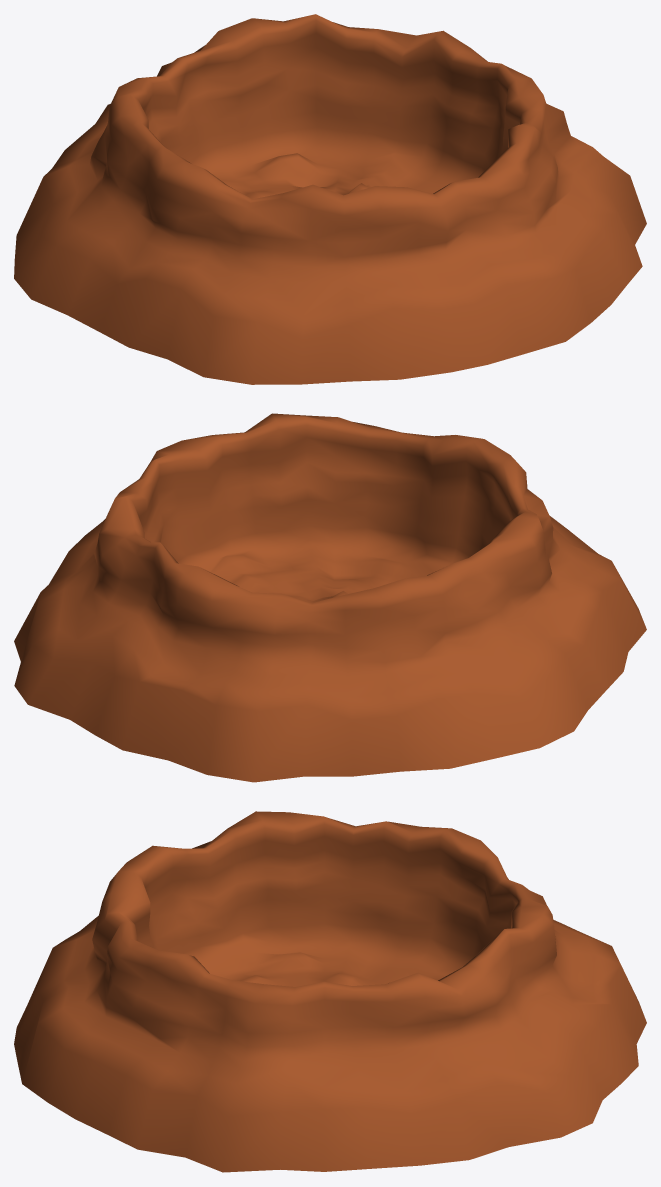
The model's file is Crater_002.fbx.
The picture shows the model from 3 angles, top to bottom: view 1: azimuth 30°, elevation 25°; view 2: azimuth 150°, elevation 25°; view 3: azimuth 270°, elevation 25°; orthographic projection.
Parts seen in each view (by area): view 1: crater_02; view 2: crater_02; view 3: crater_02.
Boxes of the visible parts, x1,y1,x2,y2 form: crater_02: [14, 14, 646, 384]; crater_02: [14, 413, 646, 782]; crater_02: [14, 811, 646, 1172].
Bounding box in the file's own units: 153 × 41.28 × 156.
